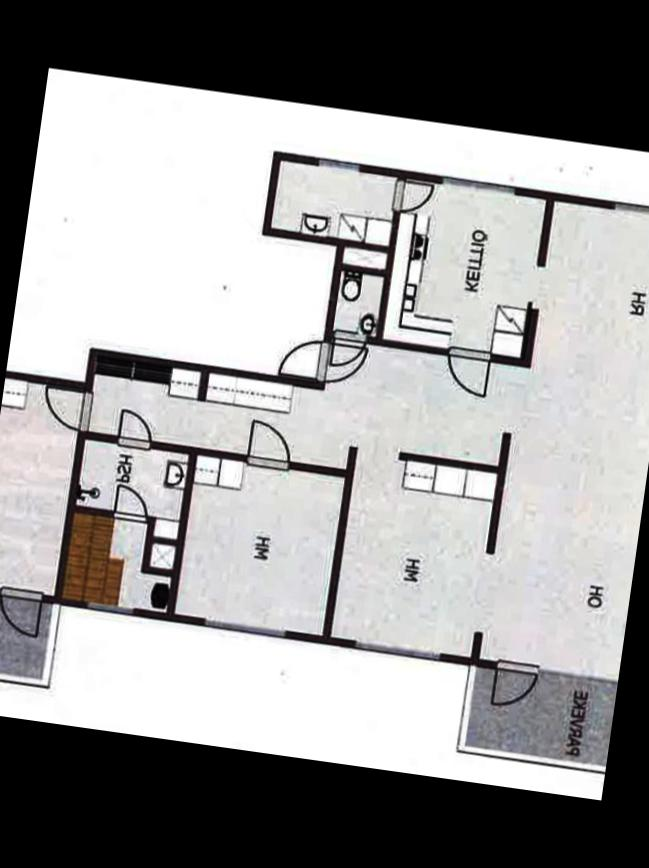door: (478, 654, 538, 714), (439, 340, 498, 401), (35, 383, 95, 436), (0, 578, 46, 643), (240, 416, 294, 471), (276, 332, 330, 384), (315, 342, 366, 389), (388, 170, 436, 217), (110, 406, 158, 452), (326, 325, 370, 369)
window: (341, 634, 448, 670), (192, 612, 292, 644), (528, 660, 619, 690), (430, 171, 524, 200), (311, 153, 370, 179), (82, 598, 142, 622), (605, 194, 649, 224)
